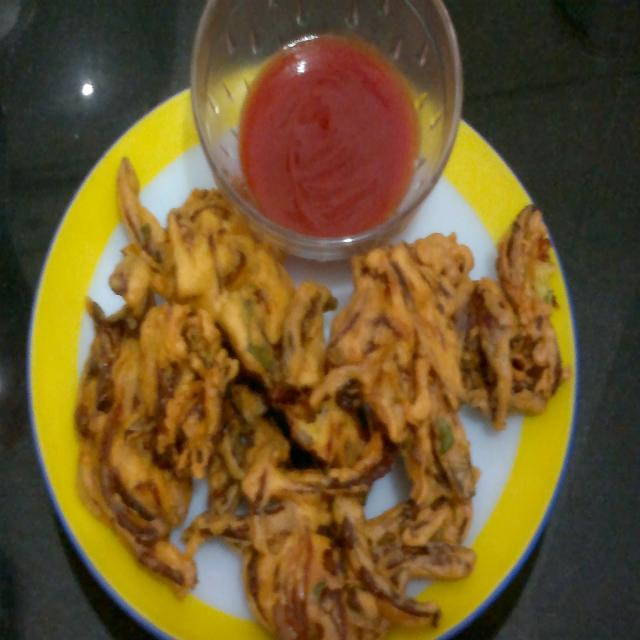Onion Pakora: (75, 155, 562, 640)
